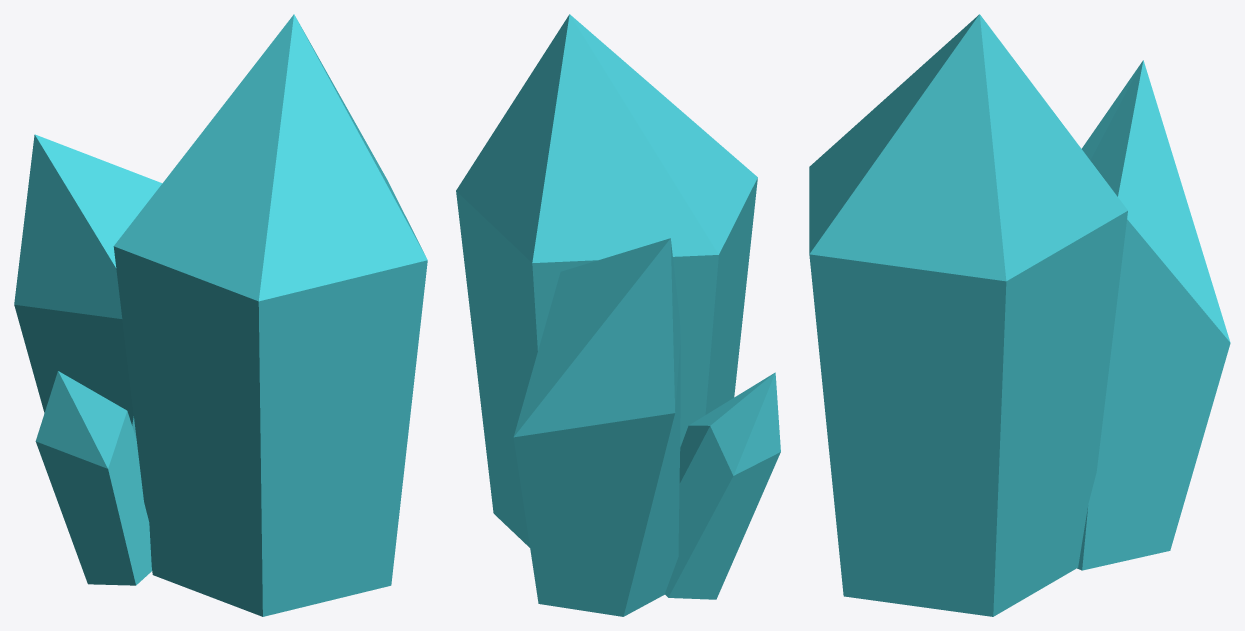
The model's file is Gem.fbx.
The picture shows the model from 3 angles, left to right: view 1: azimuth 30°, elevation 25°; view 2: azimuth 150°, elevation 25°; view 3: azimuth 270°, elevation 25°; orthographic projection. The views are drawn at different scales.
Parts seen in each view (by area): view 1: Gem; view 2: Gem; view 3: Gem.
Boxes of the visible parts, x1,y1,x2,y2 form: Gem: (14,14,427,616); Gem: (456,14,780,616); Gem: (809,14,1230,616).
Size of the model in its own units: 66.92 by 101 by 66.72.
